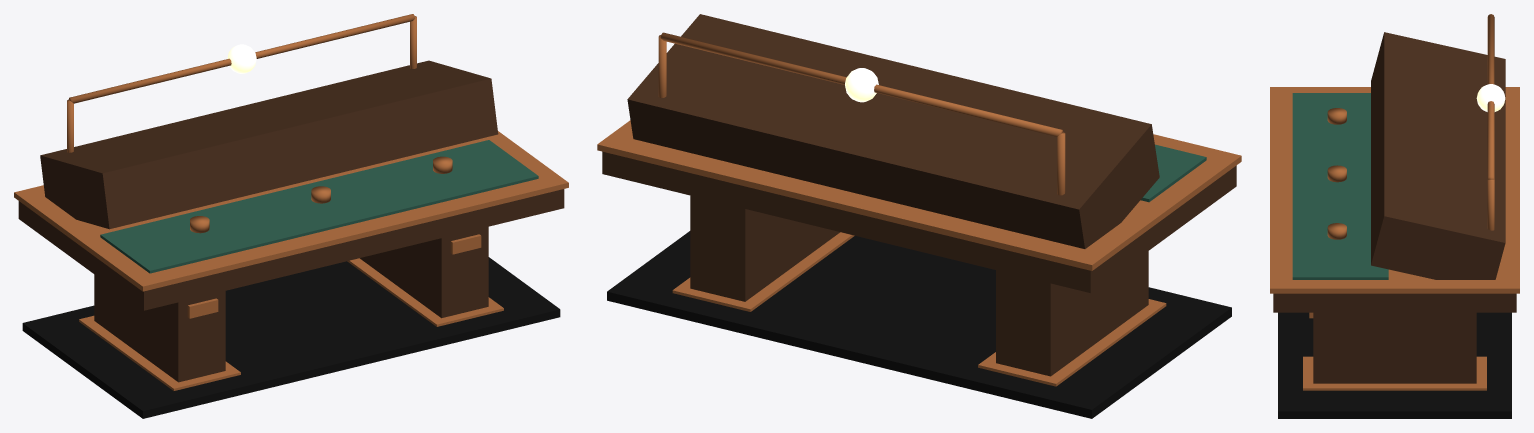
Rendered from forecast_console.glb.
The picture shows the model from 3 angles, left to right: view 1: azimuth 30°, elevation 25°; view 2: azimuth 150°, elevation 25°; view 3: azimuth 270°, elevation 25°; orthographic projection. The views are drawn at different scales.
Visible parts, largest first — view 1: forecast_console wood, forecast_console rubber, forecast_console metal, forecast_console felt, forecast_console lamp; view 2: forecast_console wood, forecast_console rubber, forecast_console metal, forecast_console felt, forecast_console lamp; view 3: forecast_console wood, forecast_console metal, forecast_console felt, forecast_console rubber, forecast_console lamp.
Boxes of the visible parts, <box> form: forecast_console wood: <box>18,60,564,382</box>; forecast_console rubber: <box>22,257,560,418</box>; forecast_console metal: <box>14,14,568,390</box>; forecast_console felt: <box>100,140,538,273</box>; forecast_console lamp: <box>227,44,256,73</box>; forecast_console wood: <box>602,14,1236,376</box>; forecast_console rubber: <box>607,231,1231,418</box>; forecast_console metal: <box>597,32,1241,386</box>; forecast_console felt: <box>1140,144,1206,202</box>; forecast_console lamp: <box>845,68,878,102</box>; forecast_console wood: <box>1273,32,1516,383</box>; forecast_console metal: <box>1270,14,1519,390</box>; forecast_console felt: <box>1292,93,1388,279</box>; forecast_console rubber: <box>1278,312,1511,418</box>; forecast_console lamp: <box>1476,84,1505,111</box>.
Size of what is drawn, in the model's own units: 2.98 by 1.62 by 1.56.
